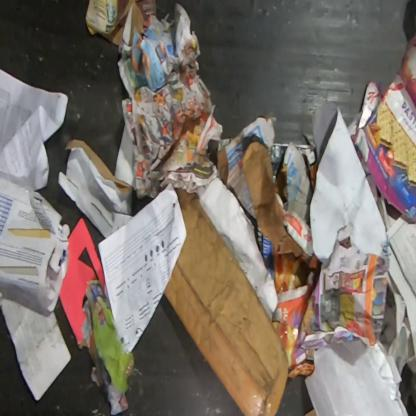cardboard: (163, 188, 289, 415), (347, 30, 415, 225), (58, 217, 105, 350), (65, 140, 134, 199), (85, 0, 145, 47)
